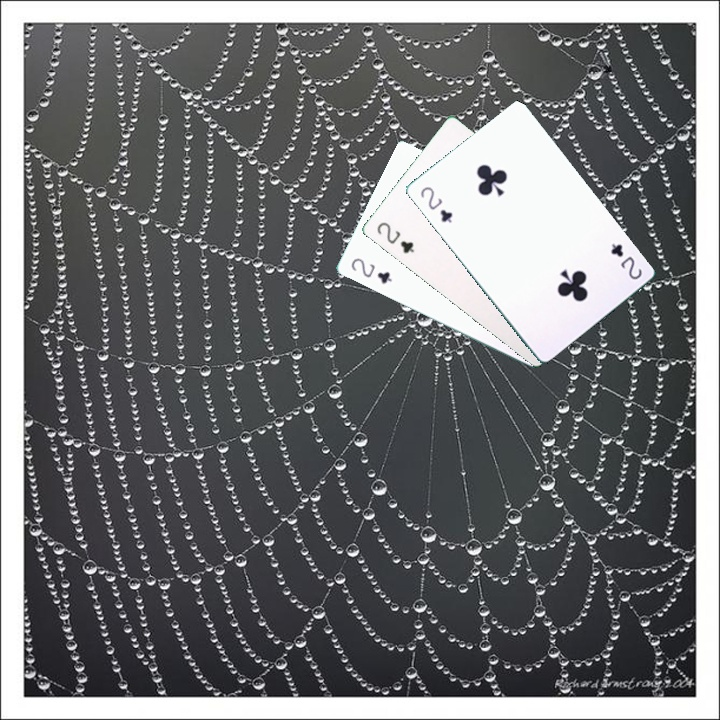2c: (416, 182, 455, 225), (373, 218, 417, 256), (607, 239, 645, 282), (347, 254, 394, 287)
